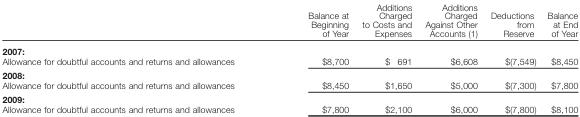table: (1, 0, 577, 113)
table column: (1, 0, 270, 113), (270, 0, 354, 113), (417, 0, 483, 113), (354, 0, 417, 113), (483, 0, 541, 113), (541, 0, 577, 113)
table column header: (1, 0, 577, 41)
table projected row header: (1, 41, 577, 55), (1, 67, 577, 79), (1, 91, 577, 103)
table row: (1, 0, 577, 41), (1, 41, 577, 55), (1, 55, 577, 67), (1, 67, 577, 79), (1, 79, 577, 91), (1, 91, 577, 103), (1, 103, 577, 113)
